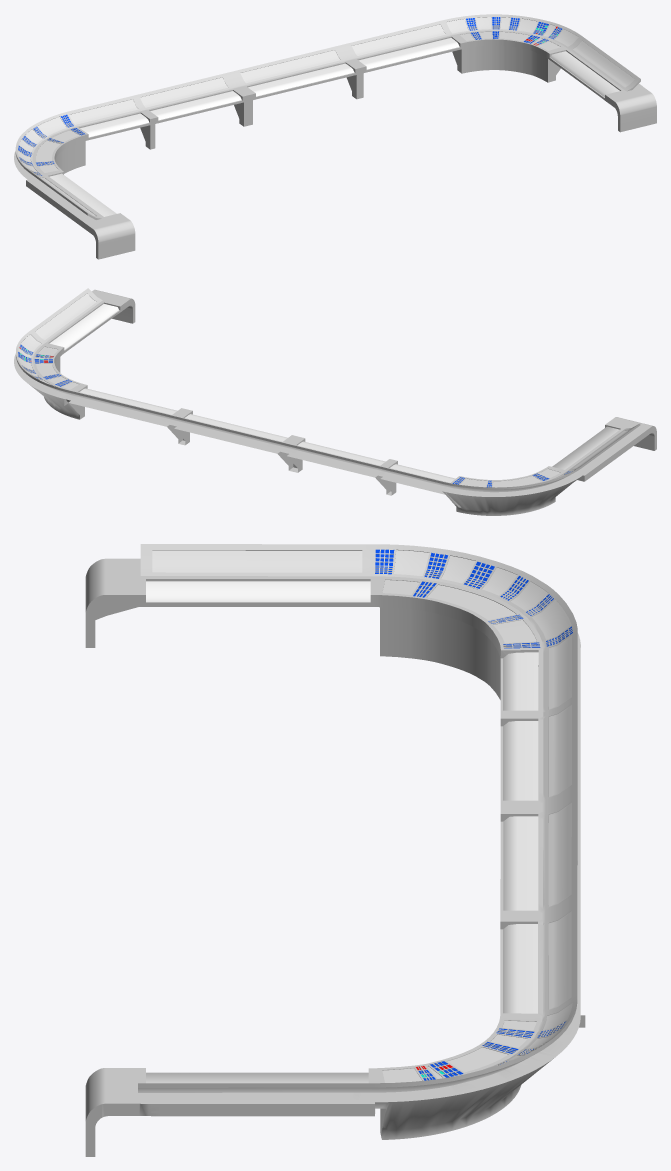
Rendered from Security_Control.fbx.
3 views of the same model, one above another, from view 1: azimuth 30°, elevation 25°; view 2: azimuth 150°, elevation 25°; view 3: azimuth 270°, elevation 25° (orthographic). The views are drawn at different scales.
Parts seen in each view (by area): view 1: Boole_330, Sweep_NURBS_1_26, Cube_2, Cube_3, Cube_4, Cube_1, Cube_5, Cube; view 2: Boole_330, Sweep_NURBS_1_26, Cube_4, Cube_5, Cube_2, Cube_3, Cube_1, Cube; view 3: Boole_330, Sweep_NURBS_1_26, Cube_5, Cube_2, Cube_3, Cube_1, Cube_4, Cube.
Part boxes in pixels (left/top/right/bottom): Boole_330: left=14, top=14, right=656, bottom=259; Sweep_NURBS_1_26: left=18, top=17, right=634, bottom=216; Cube_2: left=248, top=63, right=354, bottom=96; Cube_3: left=358, top=37, right=459, bottom=69; Cube_4: left=550, top=51, right=619, bottom=96; Cube_1: left=150, top=91, right=241, bottom=120; Cube_5: left=49, top=173, right=116, bottom=216; Cube: left=80, top=113, right=149, bottom=137; Boole_330: left=14, top=288, right=656, bottom=515; Sweep_NURBS_1_26: left=18, top=293, right=632, bottom=487; Cube_4: left=49, top=304, right=118, bottom=349; Cube_5: left=552, top=426, right=619, bottom=469; Cube_2: left=185, top=414, right=287, bottom=441; Cube_3: left=79, top=388, right=177, bottom=414; Cube_1: left=297, top=441, right=385, bottom=465; Cube: left=390, top=464, right=455, bottom=482; Boole_330: left=85, top=544, right=585, bottom=1156; Sweep_NURBS_1_26: left=152, top=550, right=572, bottom=1082; Cube_5: left=146, top=581, right=370, bottom=601; Cube_2: left=503, top=816, right=538, bottom=910; Cube_3: left=503, top=924, right=537, bottom=1013; Cube_1: left=503, top=721, right=538, bottom=800; Cube_4: left=146, top=1072, right=368, bottom=1083; Cube: left=503, top=652, right=538, bottom=710.
Bounding box in the file's own units: 26.26 × 1.8 × 10.18.
